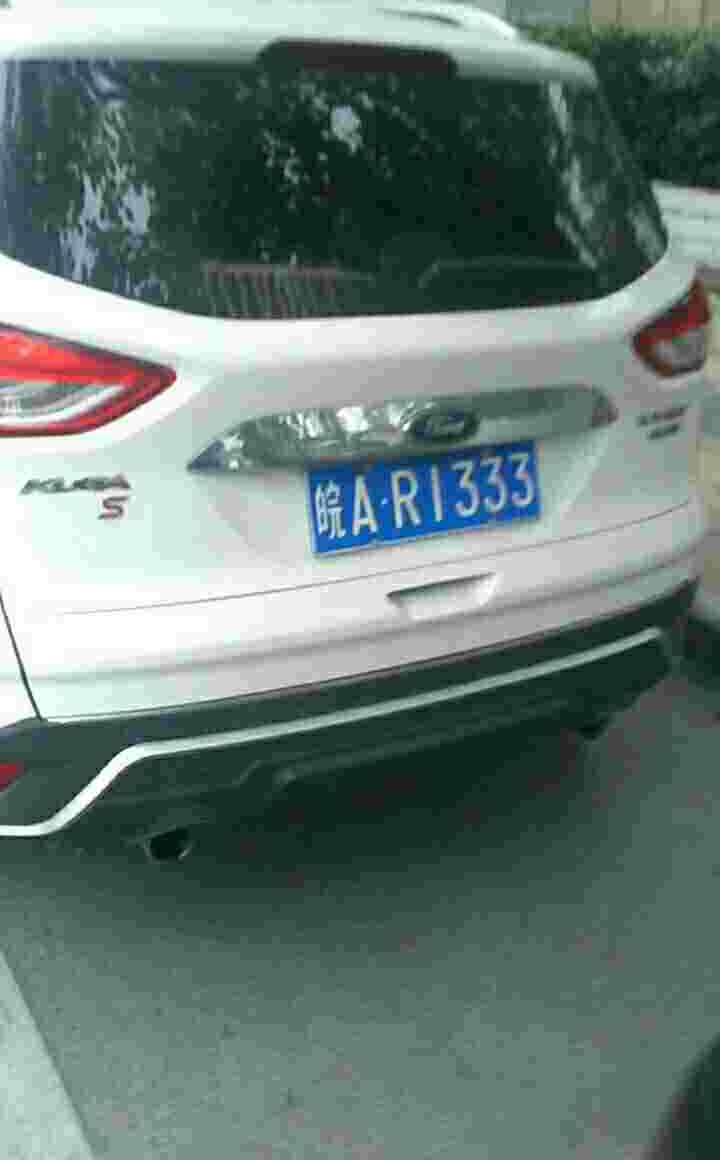license_plate: (313, 443, 544, 561)
